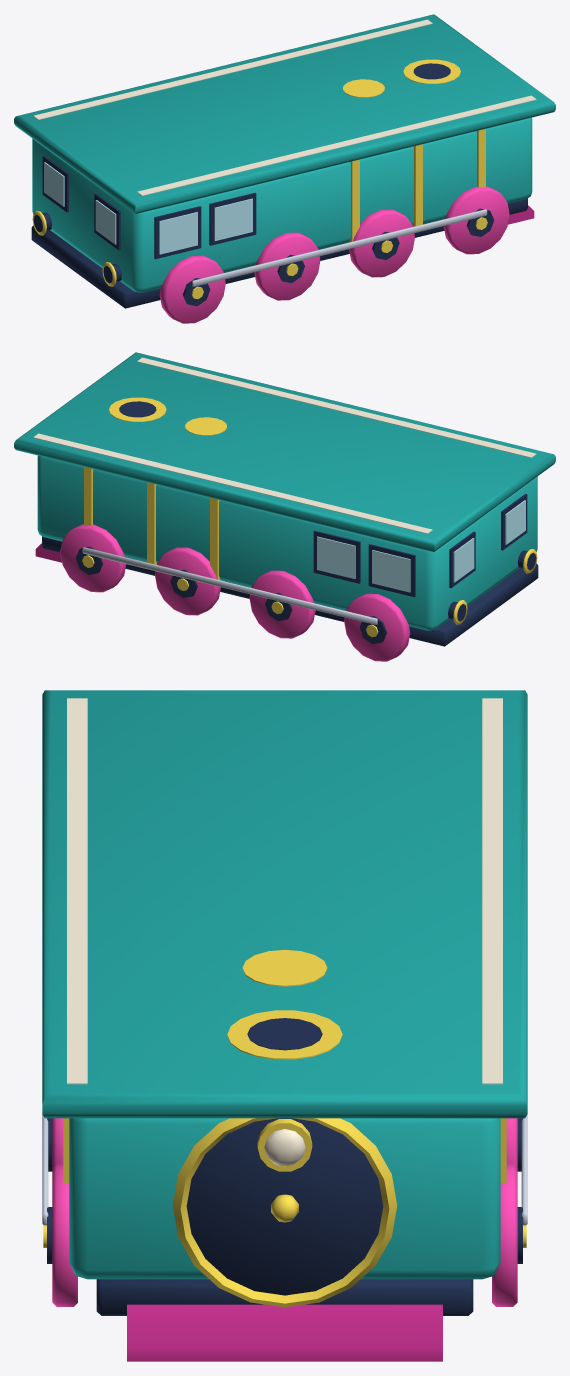
The model's file is toy_train.glb.
3 renders of one model, top to bottom at view 1: azimuth 30°, elevation 25°; view 2: azimuth 150°, elevation 25°; view 3: azimuth 270°, elevation 25°, orthographic. The views are drawn at different scales.
Parts seen in each view (by area): view 1: toy_train; view 2: toy_train; view 3: toy_train.
Part boxes in pixels (x1,y1,x2,y2): toy_train: (14, 14, 555, 323); toy_train: (14, 352, 555, 661); toy_train: (42, 690, 527, 1361).
Bounding box in the file's own units: 16.06 × 5.03 × 8.
Materials: 1 (1 with a texture image).
